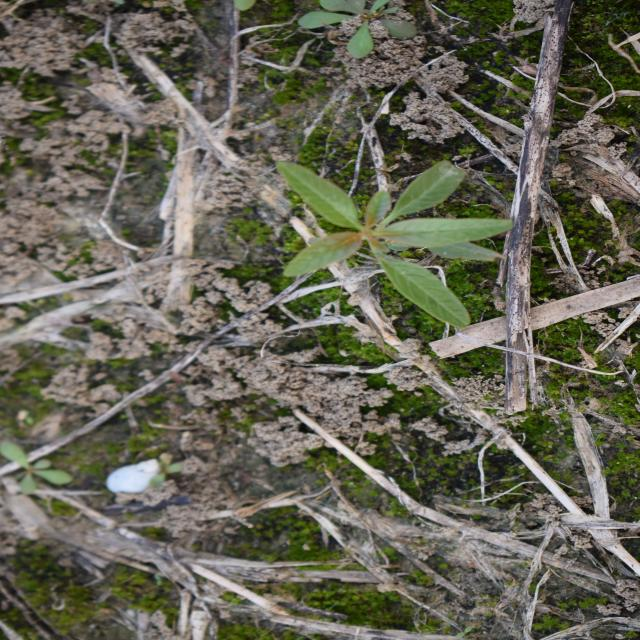Carpetweed: (293, 0, 421, 60)
Waterhemp: (275, 156, 520, 332)
